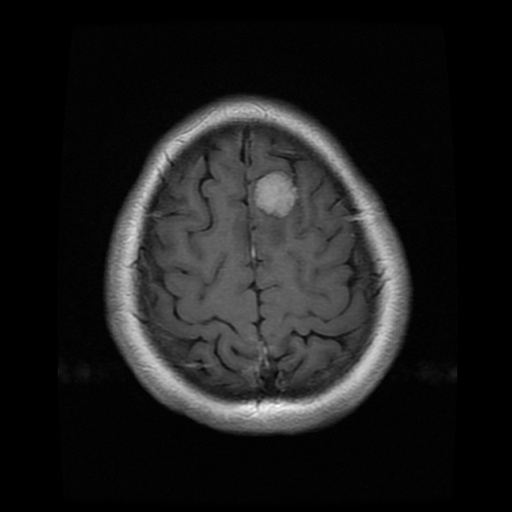meningioma: (254, 171, 299, 216)
